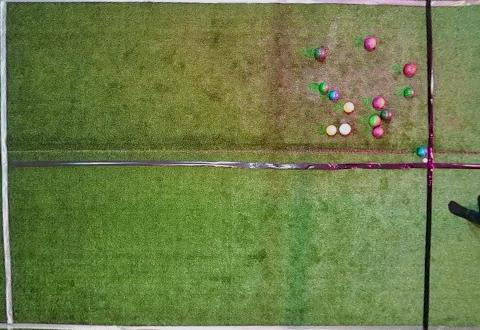blue: (329, 90, 340, 101), (417, 146, 428, 157)
green: (314, 48, 326, 60), (403, 88, 415, 99), (369, 115, 381, 126), (381, 109, 392, 120), (319, 82, 329, 93)
red: (403, 63, 417, 77), (372, 96, 385, 110), (364, 37, 376, 51), (372, 126, 384, 138), (339, 123, 351, 135)
vline: (422, 1, 480, 329), (0, 1, 16, 329)
white: (422, 158, 428, 163)
yellow: (343, 101, 354, 113), (326, 125, 337, 136)
